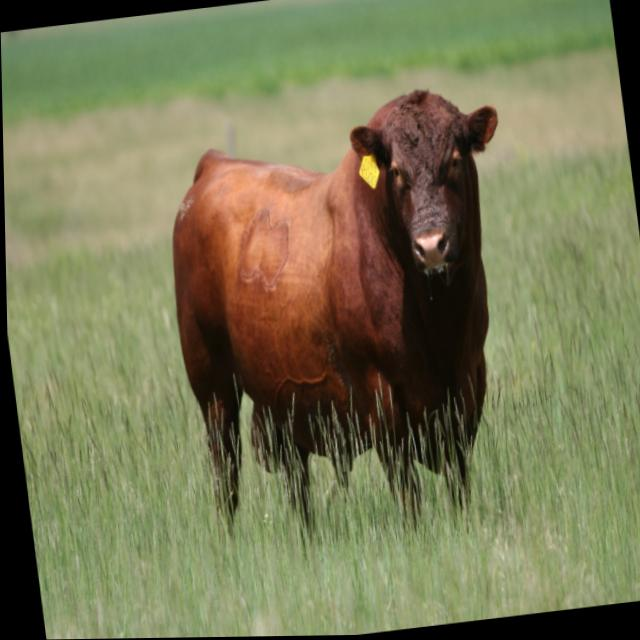cowFace: (331, 56, 521, 296)
